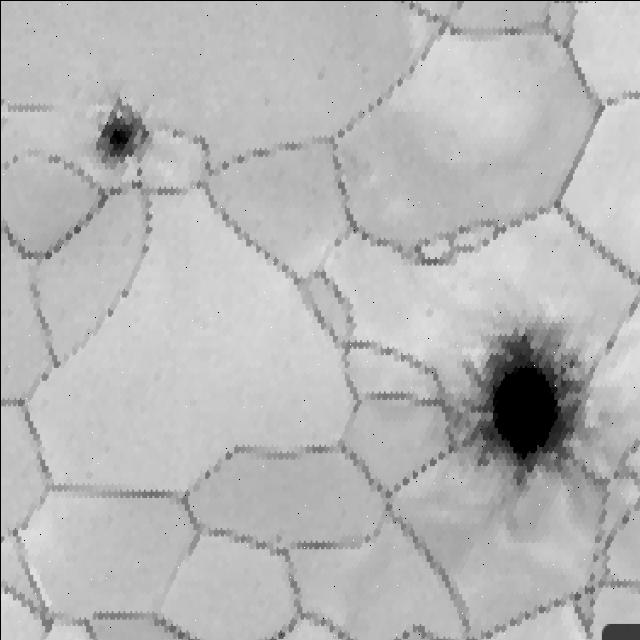good_void: (445, 295, 615, 539), (87, 85, 150, 175), (314, 63, 326, 81), (260, 95, 270, 110), (135, 166, 144, 179), (424, 306, 433, 318)
